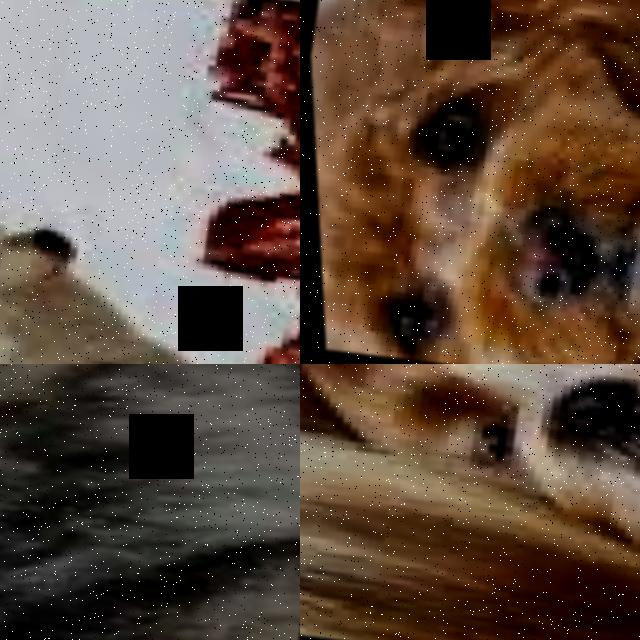dog: (300, 0, 640, 364), (300, 364, 640, 640)
wolf: (0, 364, 300, 640), (0, 145, 300, 364), (0, 0, 300, 90)
